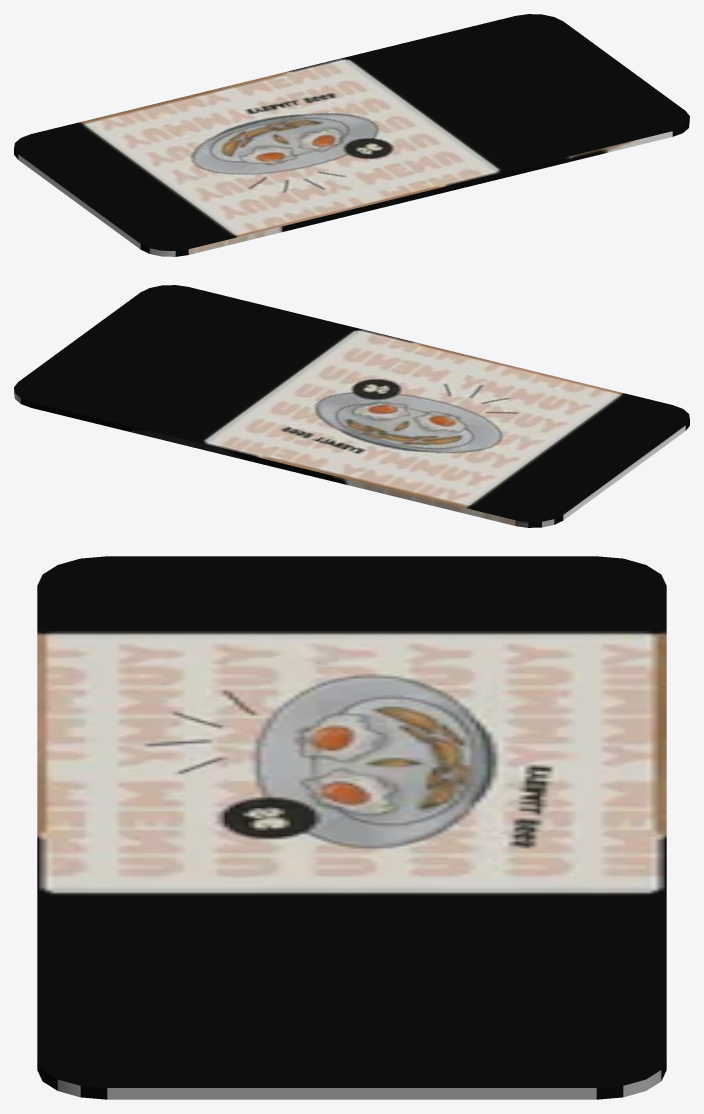
The model's file is wall-sign.glb.
3 renders of one model, top to bottom at view 1: azimuth 30°, elevation 25°; view 2: azimuth 150°, elevation 25°; view 3: azimuth 270°, elevation 25°, orthographic. The views are drawn at different scales.
Visible parts, largest first — view 1: SM_Signs07_Signs_0; view 2: SM_Signs07_Signs_0; view 3: SM_Signs07_Signs_0.
Boxes of the visible parts, x1,y1,x2,y2 form: SM_Signs07_Signs_0: (14,14,689,256); SM_Signs07_Signs_0: (14,285,689,527); SM_Signs07_Signs_0: (37,556,666,1099).
Size of the model in its own units: 0.4959 by 0.00502 by 0.248.
Materials: 1 (1 with a texture image).
